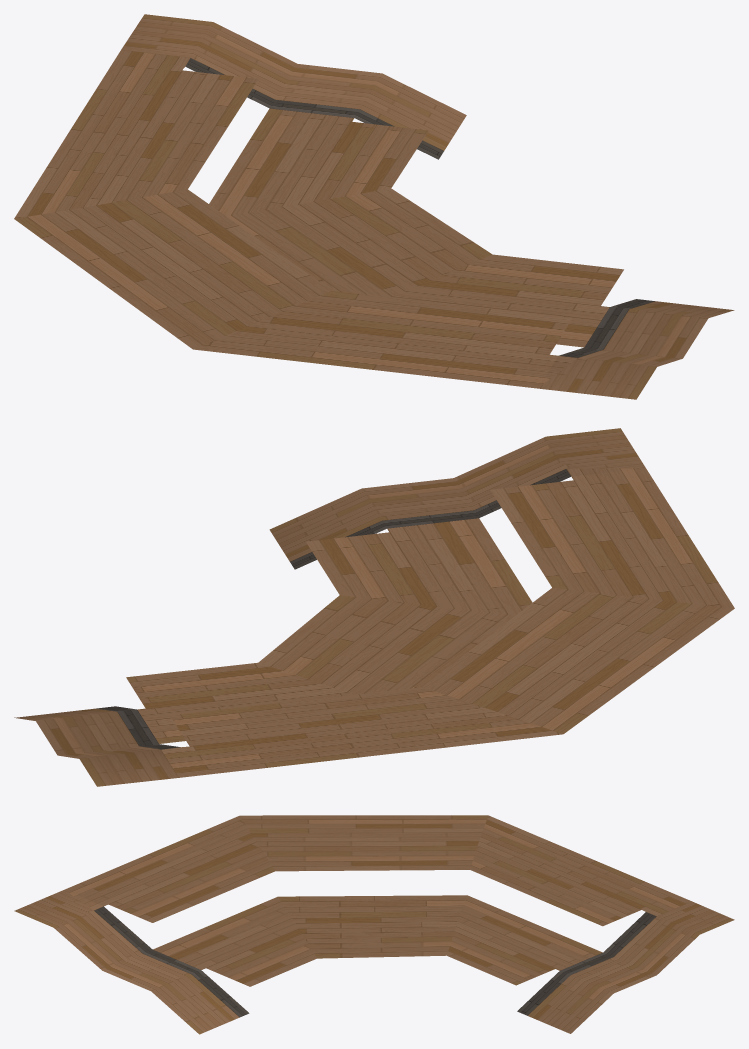
File: Viewstand_Floor.fbx
3 views of the same model, one above another, from view 1: azimuth 30°, elevation 25°; view 2: azimuth 150°, elevation 25°; view 3: azimuth 270°, elevation 25° (orthographic). The views are drawn at different scales.
Parts seen in each view (by area): view 1: ViewStandFloor; view 2: ViewStandFloor; view 3: ViewStandFloor.
Boxes of the visible parts, left/top/right/bottom form: ViewStandFloor: left=14, top=14, right=734, bottom=399; ViewStandFloor: left=14, top=428, right=734, bottom=786; ViewStandFloor: left=14, top=815, right=734, bottom=1034.
Size of the model in its own units: 1337 by 161 by 2337.
